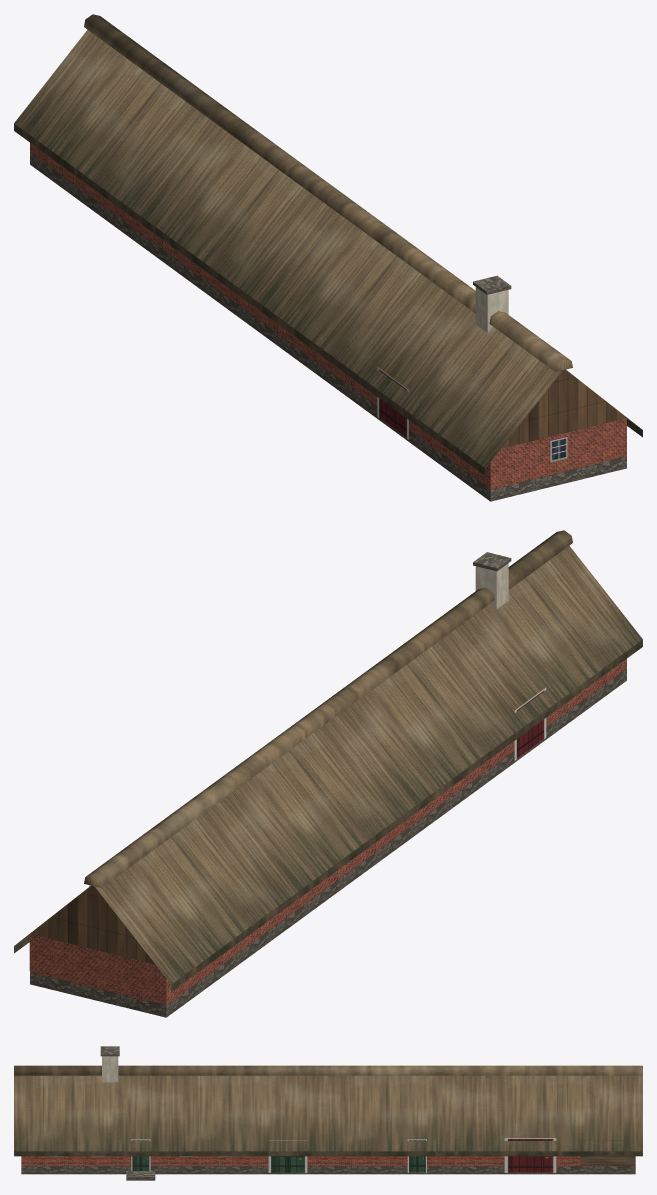
File: SM_Farm_VestjyskLanghus.fbx
3 renders of one model, top to bottom at view 1: azimuth 30°, elevation 25°; view 2: azimuth 150°, elevation 25°; view 3: azimuth 270°, elevation 25°, orthographic. The views are drawn at different scales.
Parts seen in each view (by area): view 1: SM_Farm_VestjyskLanghus; view 2: SM_Farm_VestjyskLanghus; view 3: SM_Farm_VestjyskLanghus.
Boxes of the visible parts, left/top/right/bottom form: SM_Farm_VestjyskLanghus: left=14, top=14, right=642, bottom=501; SM_Farm_VestjyskLanghus: left=14, top=530, right=642, bottom=1017; SM_Farm_VestjyskLanghus: left=14, top=1046, right=642, bottom=1180.
Size of the model in its own units: 790 by 3890 by 694.
Materials: 1 (1 with a texture image).
